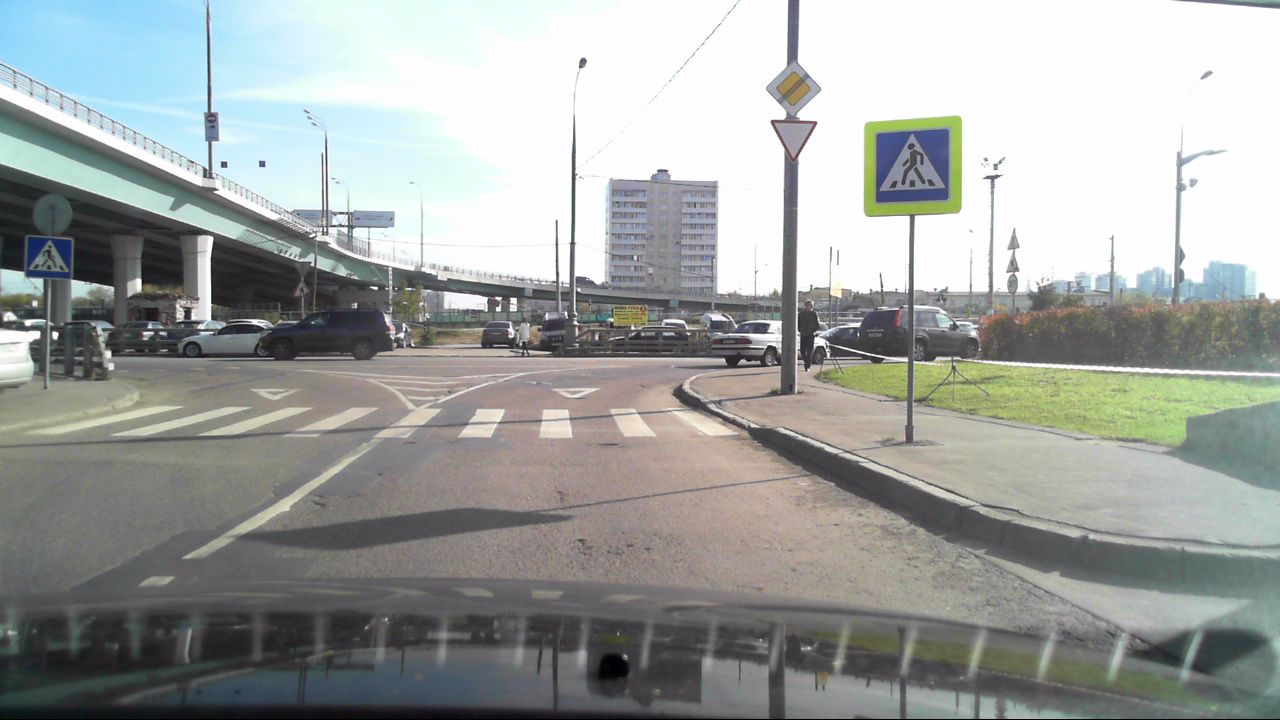main road: (766, 58, 822, 116)
